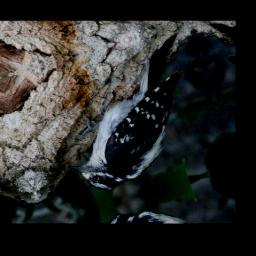Woodpecker: (40, 31, 216, 202)
